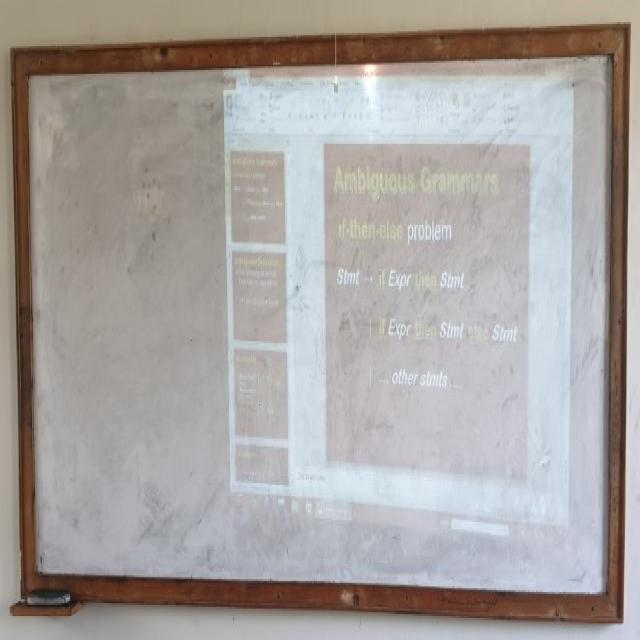Slide: (224, 51, 575, 561)
White-board: (19, 44, 620, 607)
